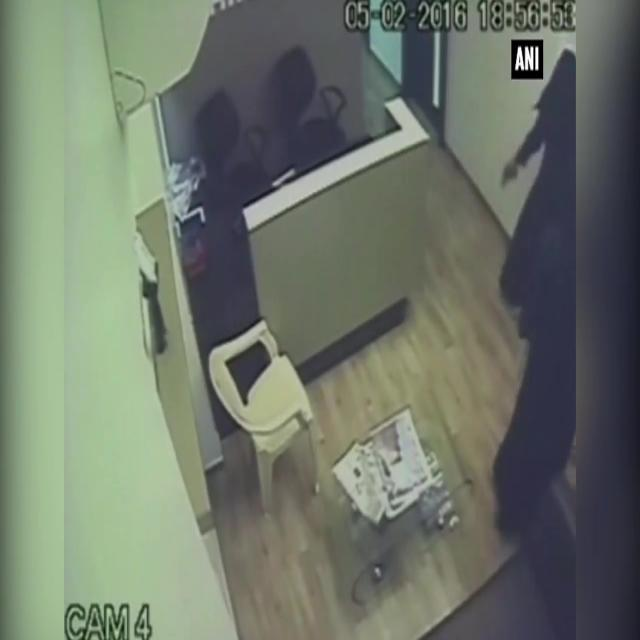Weapon: (502, 139, 528, 194)
